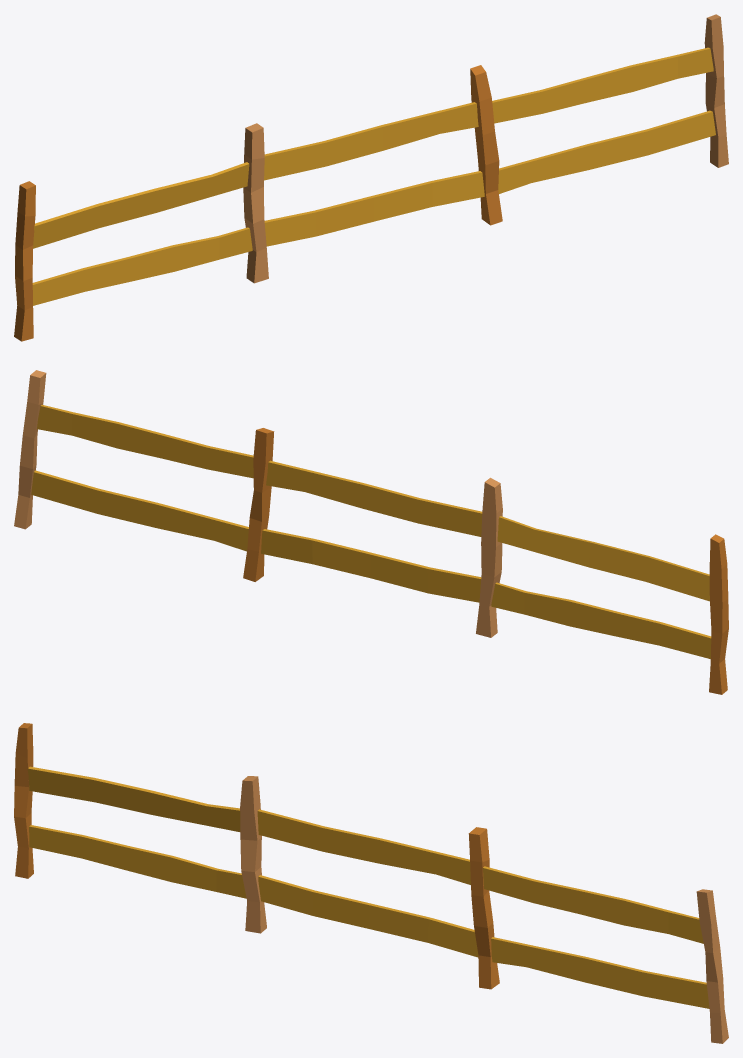
File: wood_fence2.glb
3 renders of one model, top to bottom at view 1: azimuth 30°, elevation 25°; view 2: azimuth 150°, elevation 25°; view 3: azimuth 330°, elevation 25°, orthographic.
Parts seen in each view (by area): view 1: Object_4, Object_3, Object_2; view 2: Object_4, Object_3, Object_2; view 3: Object_4, Object_2, Object_3.
Part boxes in pixels (x1=…): Object_4: x1=32, y1=47, x2=715, y2=305; Object_3: x1=14, y1=65, x2=502, y2=341; Object_2: x1=243, y1=14, x2=728, y2=283; Object_4: x1=31, y1=404, x2=711, y2=658; Object_3: x1=243, y1=428, x2=728, y2=694; Object_2: x1=14, y1=370, x2=502, y2=637; Object_4: x1=27, y1=766, x2=709, y2=1008; Object_2: x1=240, y1=776, x2=728, y2=1043; Object_3: x1=14, y1=723, x2=499, y2=989.
Size of the model in its own units: 61.97 by 12.97 by 2.01.
